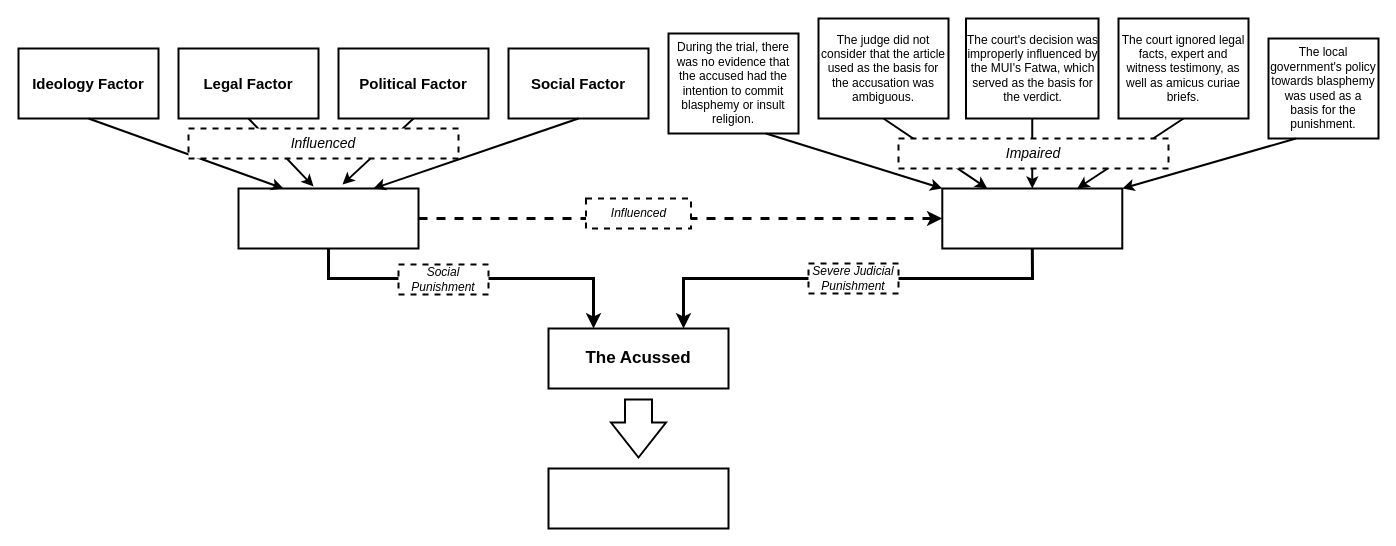
Image size: 1396x546. Some labels were removed from this diagram. The shapes that lost their labels are listed below. From the top down, each one's centre as x and y in pixels, then its label:
At pixel 328 218: "Vigilante Justice".
At pixel 1032 218: "Judicial Justice".
At pixel 638 498: "The Court Rulling Miscarriage of Justice".
